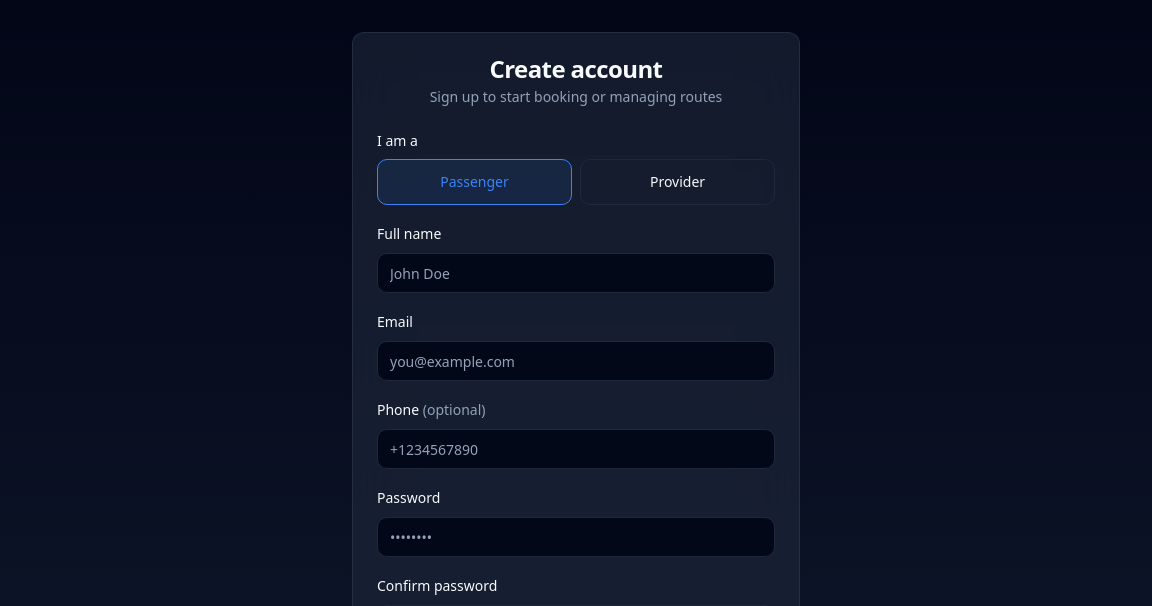
Test case: RegisterPage › password strength indicator › shows Fair for a password meeting basic requirements
Type "Abcdef1" into the password field labelled "Password". click: x=576, y=537
box: [377,517,775,557]
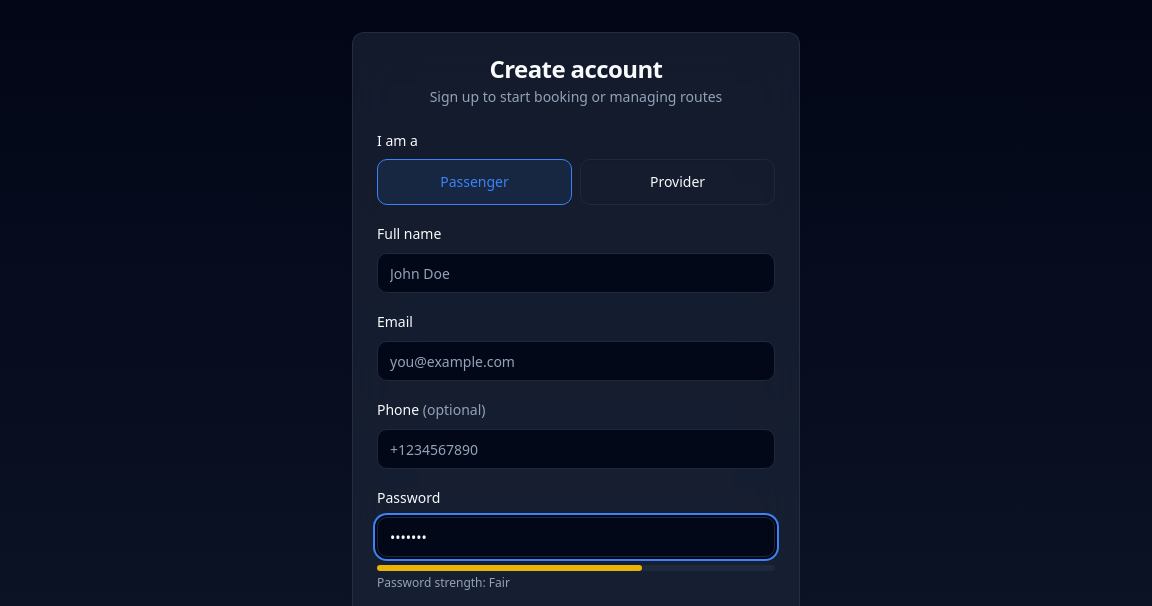
expect the text with test id "strength-label" reads "Fair": met, box [489,574,510,591]
